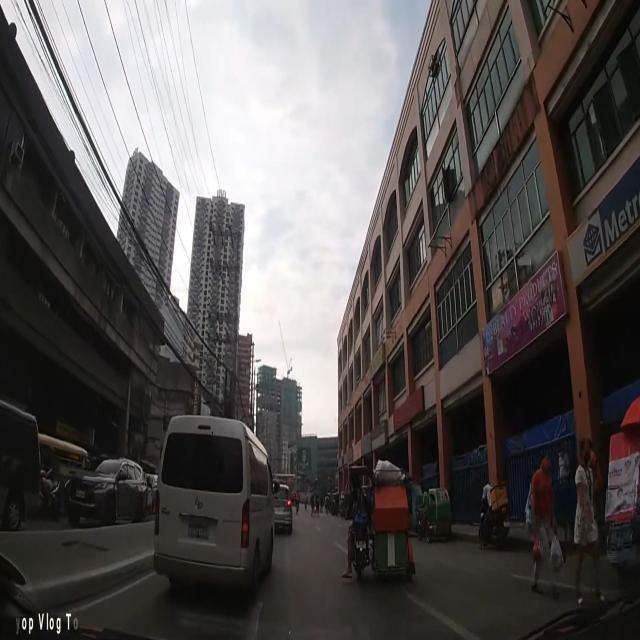bike: (295, 488, 300, 516)
car: (153, 414, 275, 596), (67, 456, 149, 522), (272, 481, 292, 534)
motorcycle: (474, 481, 510, 548), (40, 443, 61, 522)
tricycle: (345, 458, 416, 582), (606, 396, 640, 578), (416, 486, 452, 544)
